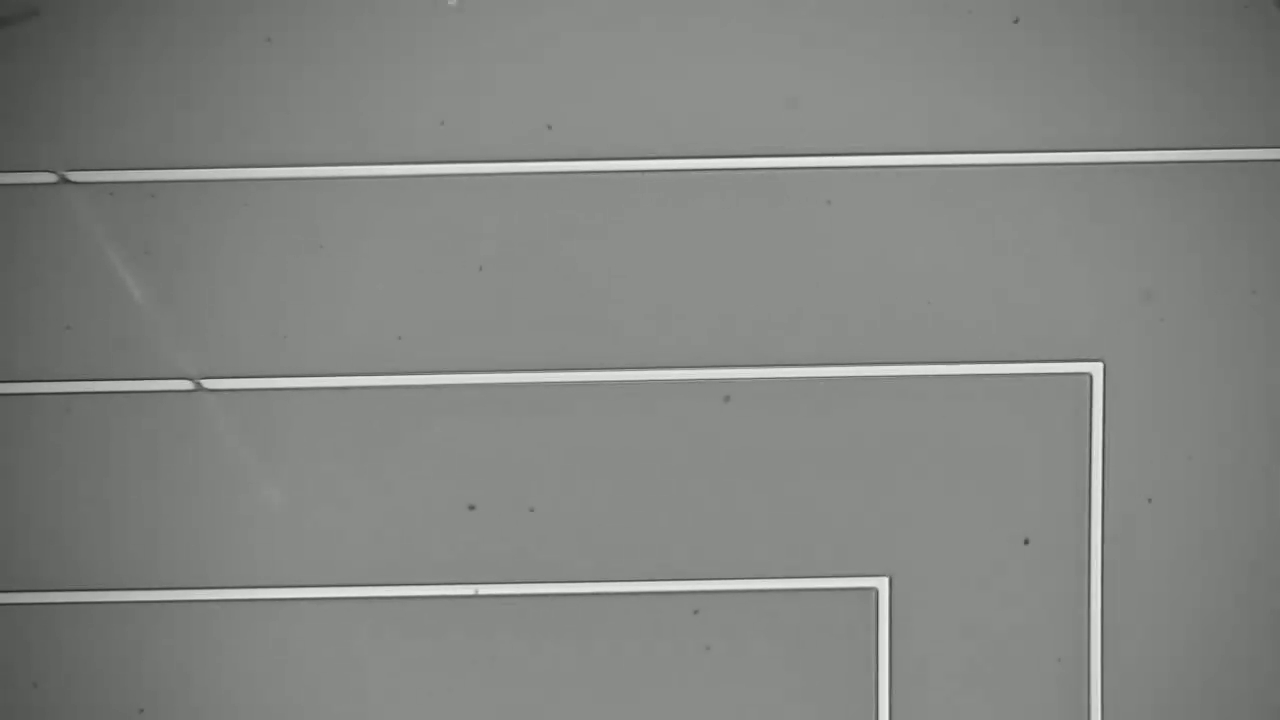gray_line: (46, 160, 82, 193), (183, 368, 216, 401)
